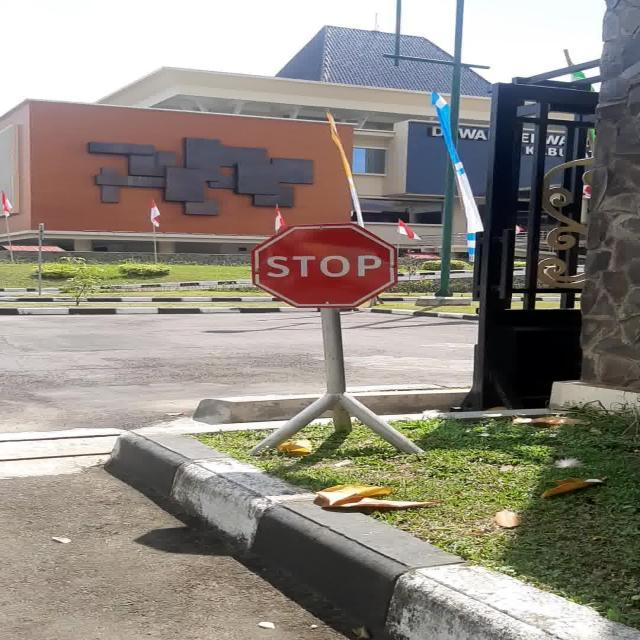Berhenti: (250, 224, 398, 308)
